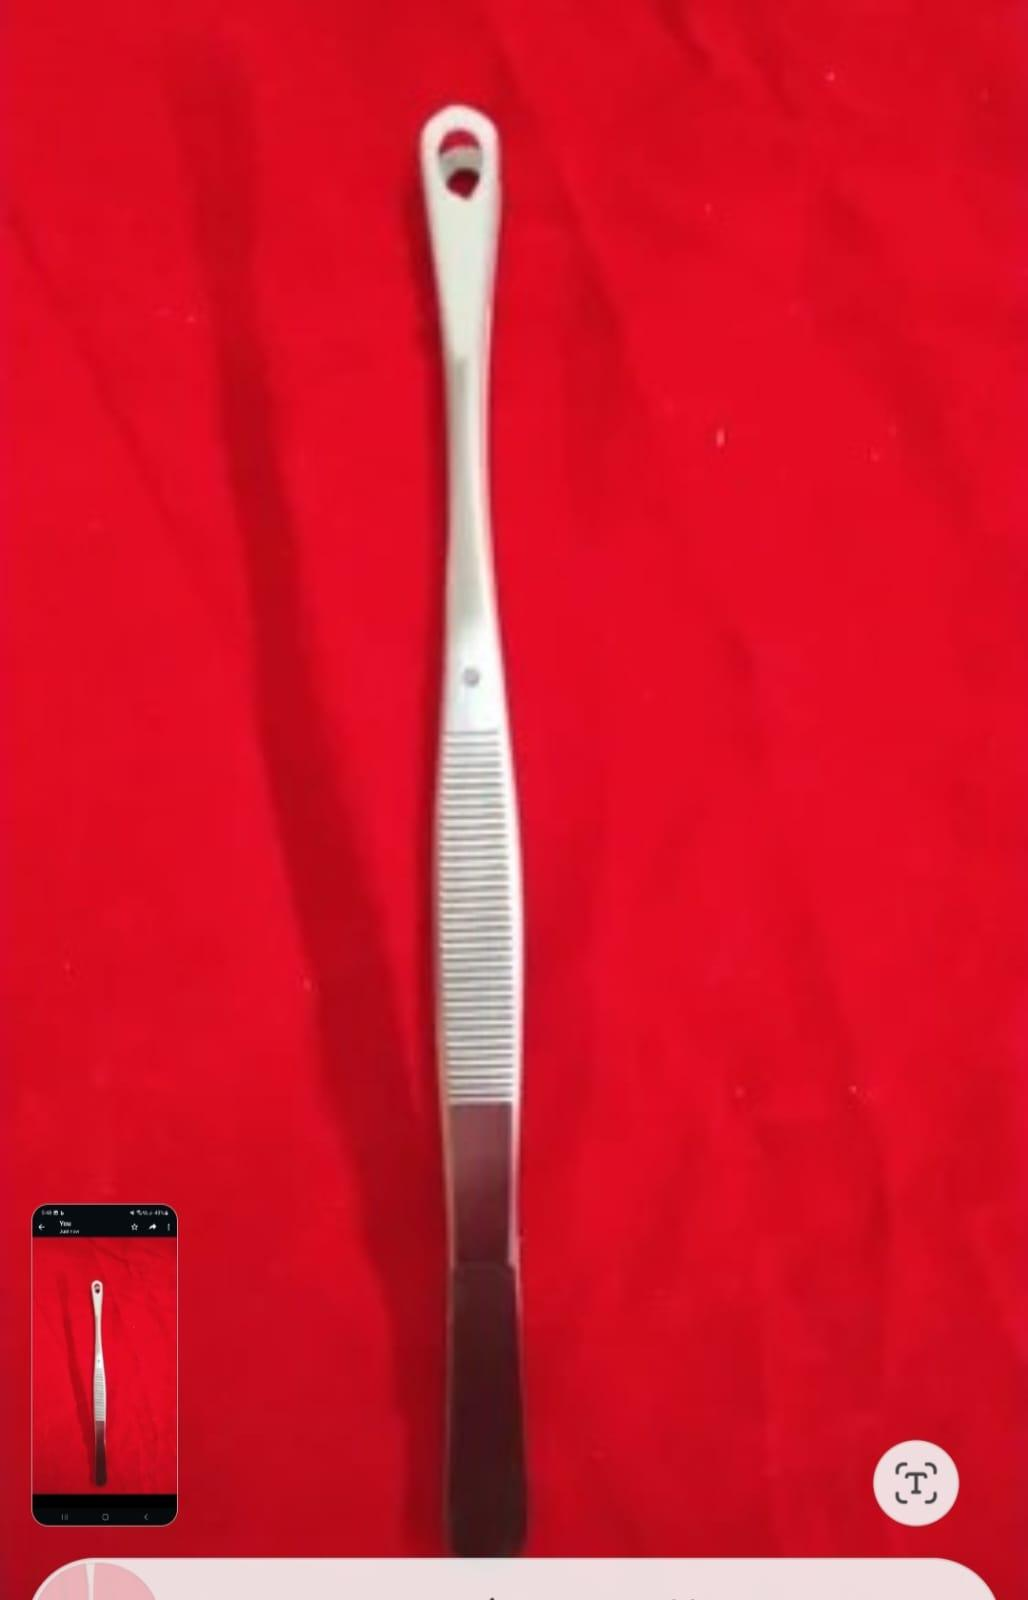Eye Intestinal Forceps: (388, 77, 562, 1568)
